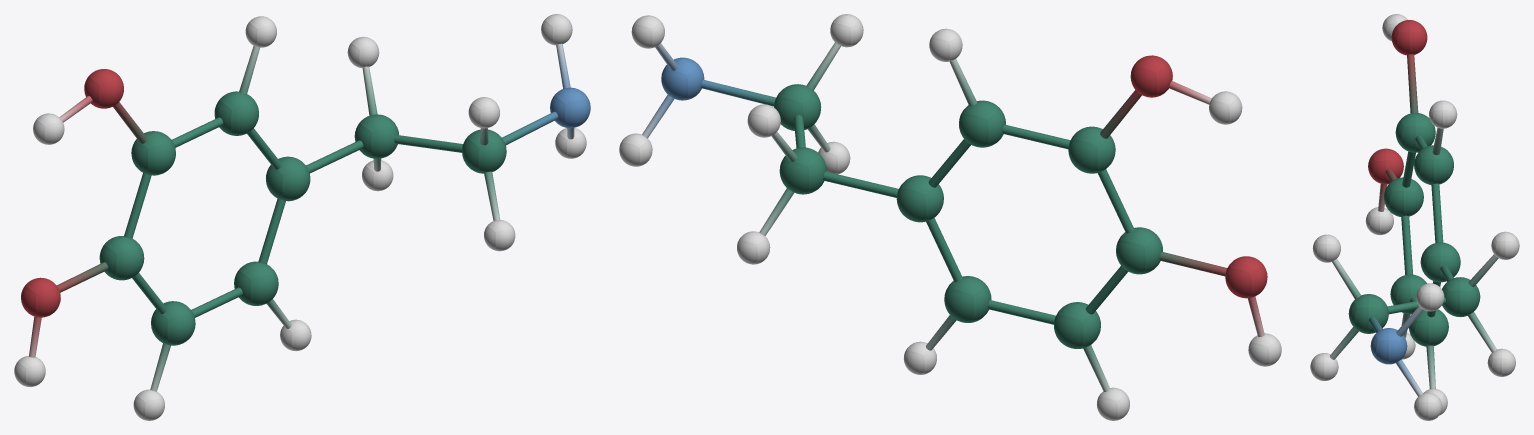
Rendered from Dopamine.fbx.
3 views of the same model, side by side, from view 1: azimuth 30°, elevation 25°; view 2: azimuth 150°, elevation 25°; view 3: azimuth 270°, elevation 25° (orthographic). The views are drawn at different scales.
Visible parts, largest first — view 1: curMeshHyperballExportedMesh; view 2: curMeshHyperballExportedMesh; view 3: curMeshHyperballExportedMesh.
Boxes of the visible parts, left/top/right/bottom form: curMeshHyperballExportedMesh: left=14, top=14, right=590, bottom=420; curMeshHyperballExportedMesh: left=619, top=14, right=1281, bottom=420; curMeshHyperballExportedMesh: left=1310, top=14, right=1519, bottom=420.
Bounding box in the file's own units: 8.7 × 4.97 × 2.95.
